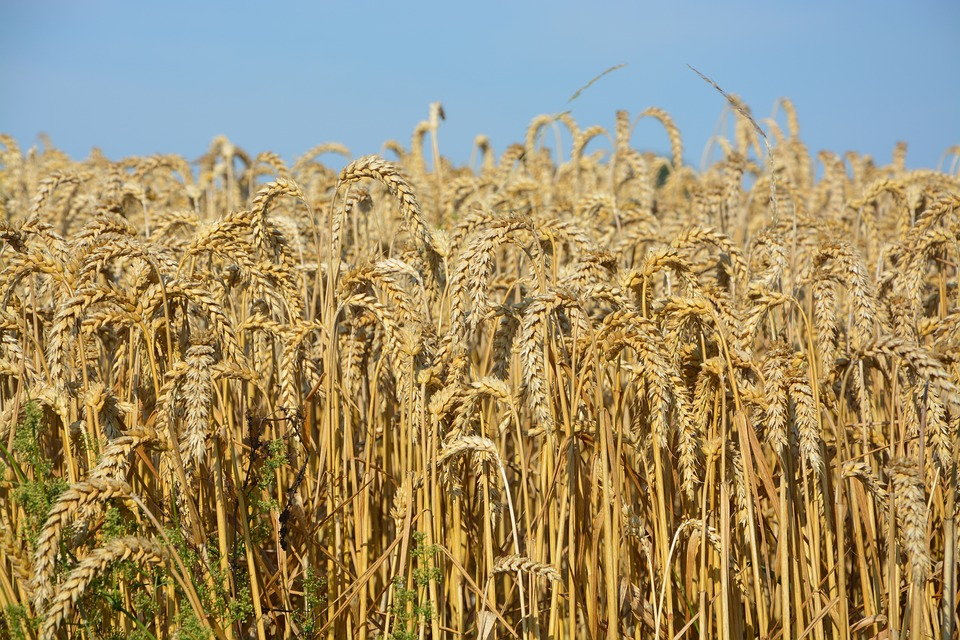Wheat: (149, 251, 900, 513)
